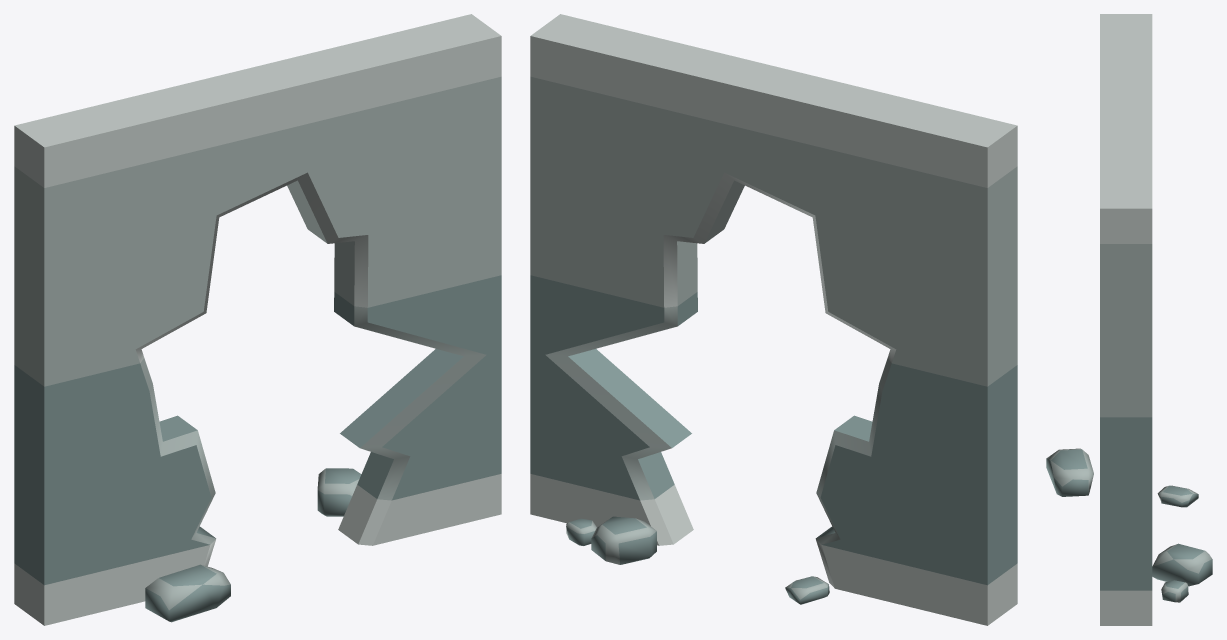
The model's file is Wall_cell_brocken.fbx.
3 views of the same model, side by side, from view 1: azimuth 30°, elevation 25°; view 2: azimuth 150°, elevation 25°; view 3: azimuth 270°, elevation 25° (orthographic). The views are drawn at different scales.
Parts seen in each view (by area): view 1: Wall_cell_brocken; view 2: Wall_cell_brocken; view 3: Wall_cell_brocken.
Part boxes in pixels (box(x1,y1,x2,y2)): Wall_cell_brocken: box(14, 14, 501, 625); Wall_cell_brocken: box(530, 14, 1017, 625); Wall_cell_brocken: box(1046, 14, 1212, 625).
Size of the model in its own units: 200 by 200 by 72.11.
